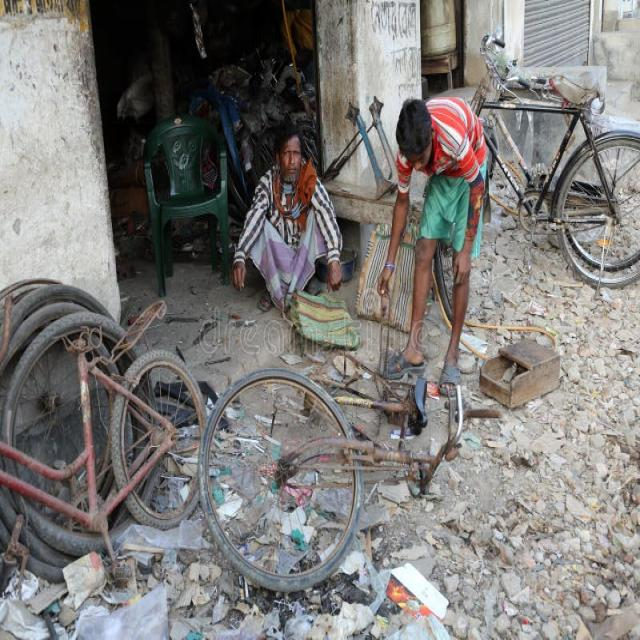accident: (199, 369, 464, 592), (0, 301, 206, 553)
bicycle: (471, 34, 640, 288)
